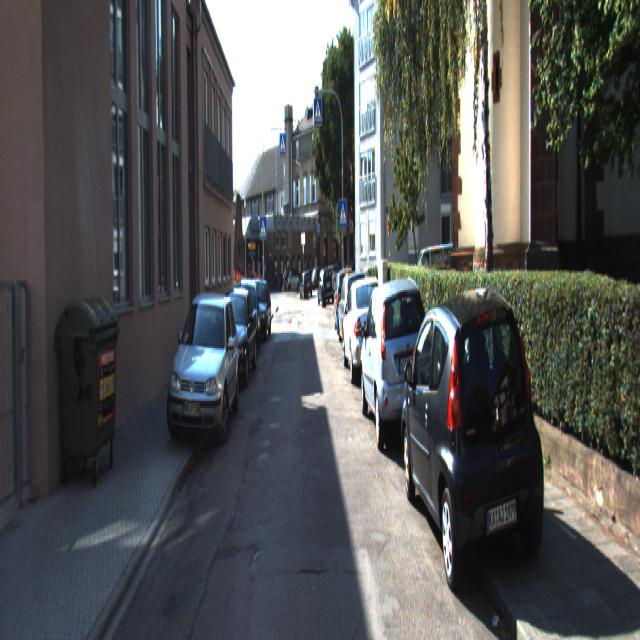Car: (399, 273, 548, 582), (358, 271, 436, 449), (166, 282, 241, 450), (340, 273, 390, 381), (209, 284, 259, 388), (413, 239, 457, 311), (337, 269, 372, 351), (231, 275, 261, 353), (245, 278, 272, 342)
